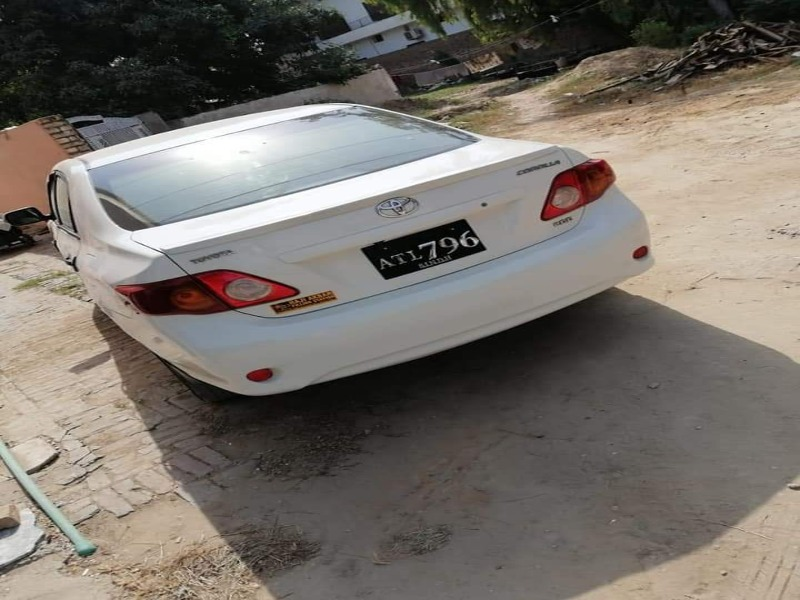License Plate: (361, 218, 488, 280)
